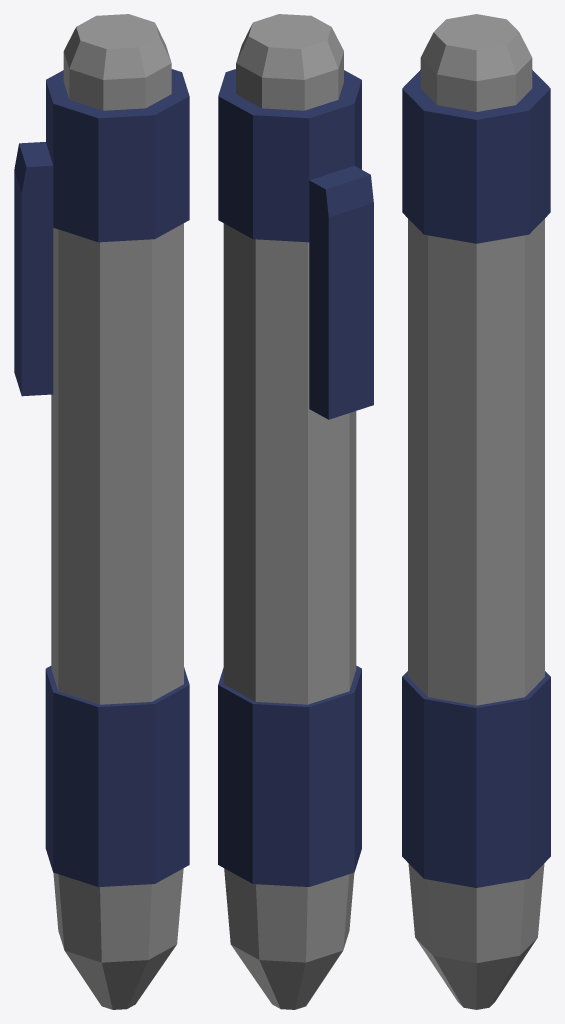
File: pen2.fbx
3 renders of one model, left to right at view 1: azimuth 30°, elevation 25°; view 2: azimuth 150°, elevation 25°; view 3: azimuth 270°, elevation 25°, orthographic.
Parts seen in each view (by area): view 1: pen2; view 2: pen2; view 3: pen2.
Part boxes in pixels (x1,y1,x2,y2): pen2: (14, 14, 189, 1009); pen2: (218, 14, 373, 1009); pen2: (402, 14, 550, 1009).
Bounding box in the file's own units: 0.0218 × 0.1312 × 0.0183.
